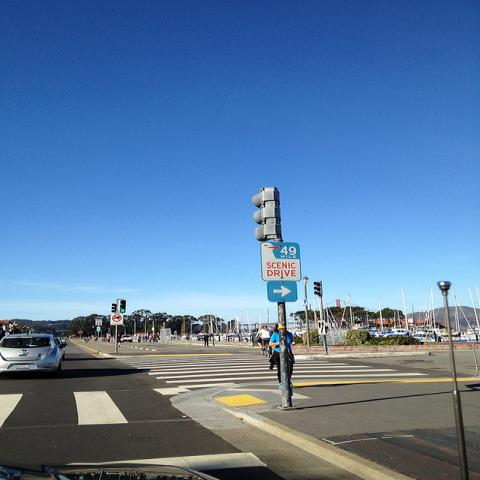car: (0, 333, 68, 376), (120, 334, 132, 343), (61, 340, 66, 343)
